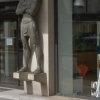Statue: (13, 2, 51, 88)
